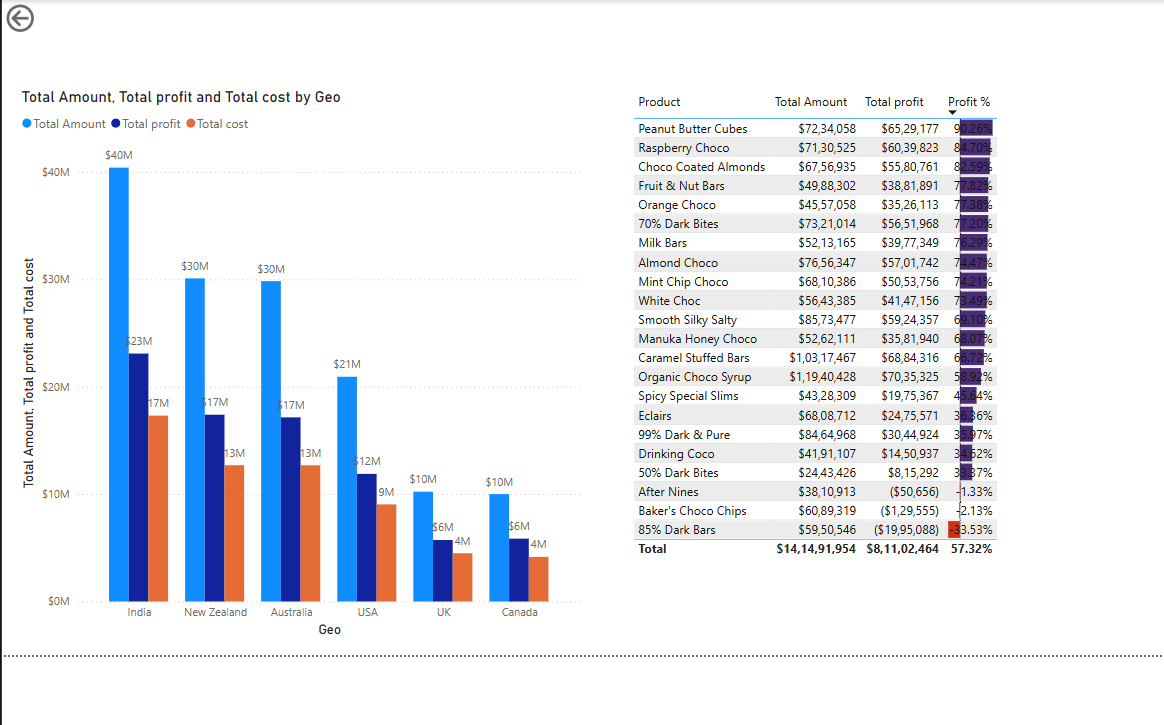

The page's visual inventory and layout, read from the dashboard file:
{"tool":"powerbi","page":{"name":"Page 2","canvas":[1280,720],"ordinal":1},"visuals":[{"type":"clusteredColumnChart","fields":{"Category":["locations.Geo"],"Y":["shipments.Total Amount","shipments.Total profit","shipments.Total cost"]},"box":[16,96,624,608],"z":0},{"type":"tableEx","fields":{"Values":["products.Product","shipments.Total Amount","shipments.Total profit","shipments.Profit %"]},"box":[688,96,576,608],"z":1000},{"type":"actionButton","box":[0,0,100,40],"z":2000}]}

Visuals, with their boxes on the page's 1280x720 design canvas (x1, y1, x2, y2). These are canvas units, not pixel positions in the 1164x725 screenshot, which may show the page scaled, cropped or inside an application window:
clusteredColumnChart - locations.Geo x shipments.Total Amount: 16, 96, 640, 704
tableEx - products.Product x shipments.Total Amount: 688, 96, 1264, 704
actionButton: 0, 0, 100, 40
